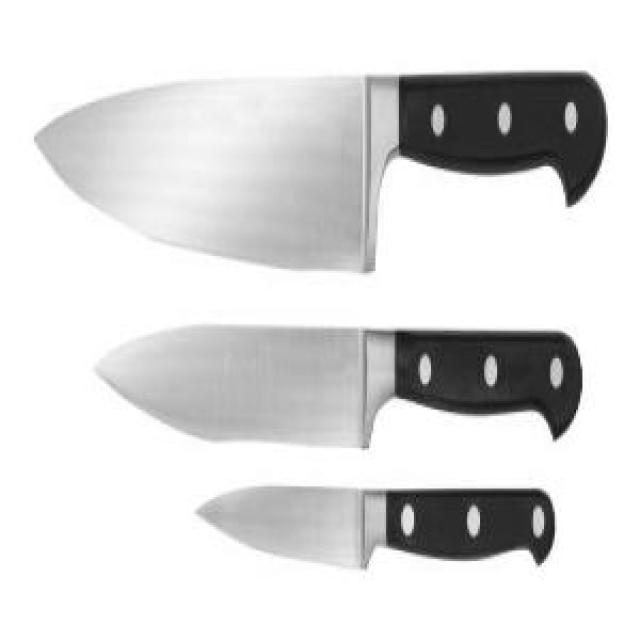knife: (30, 62, 607, 284), (91, 316, 584, 450), (196, 478, 559, 589)
